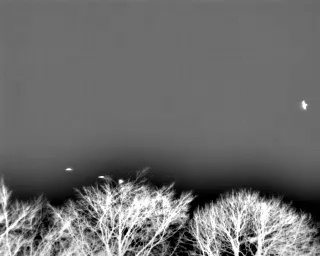BIRD: (299, 98, 310, 113)
